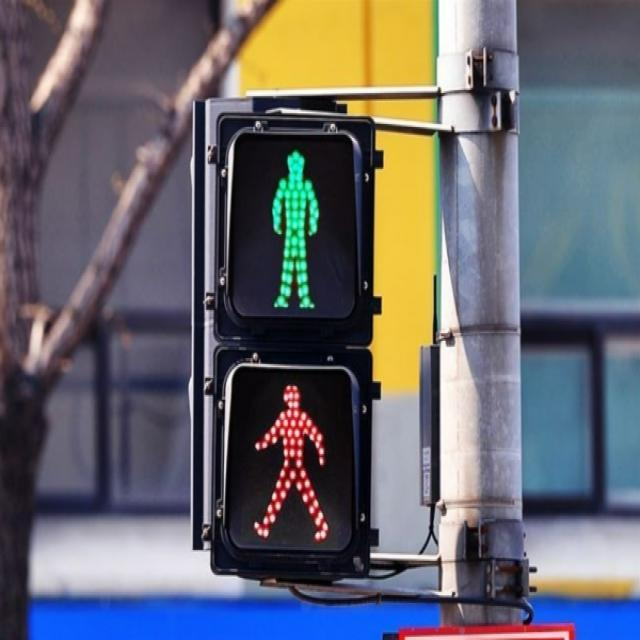green_light: (245, 148, 338, 318)
red_light: (238, 374, 350, 554)
